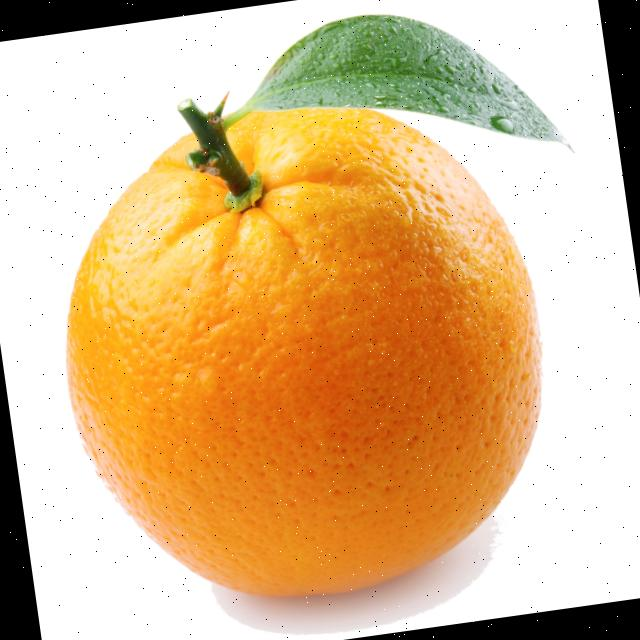orange: (66, 109, 542, 596)
